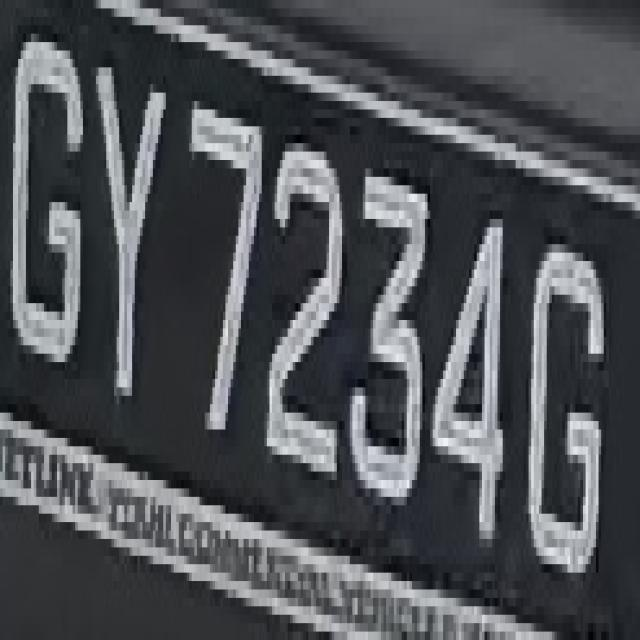2: (259, 92, 350, 496)
3: (350, 152, 433, 522)
4: (432, 152, 516, 564)
7: (178, 51, 262, 480)
G: (521, 194, 606, 606), (5, 25, 86, 388)
Y: (88, 34, 169, 421)
